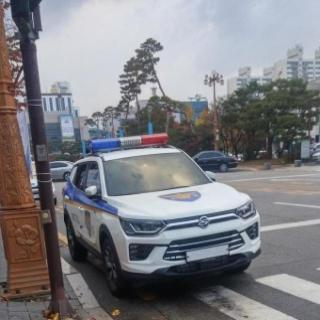Police_car: (64, 132, 260, 288)
